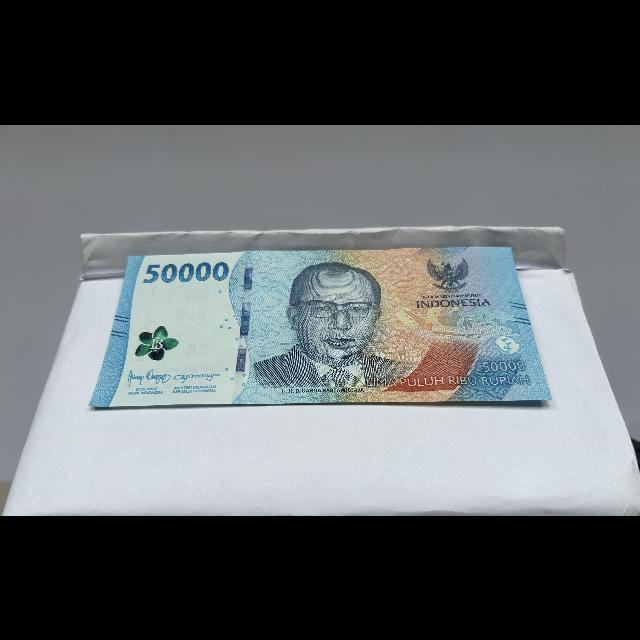Asli-50k: (81, 241, 555, 410)
Tinta-Asli-50k: (128, 314, 184, 368)
